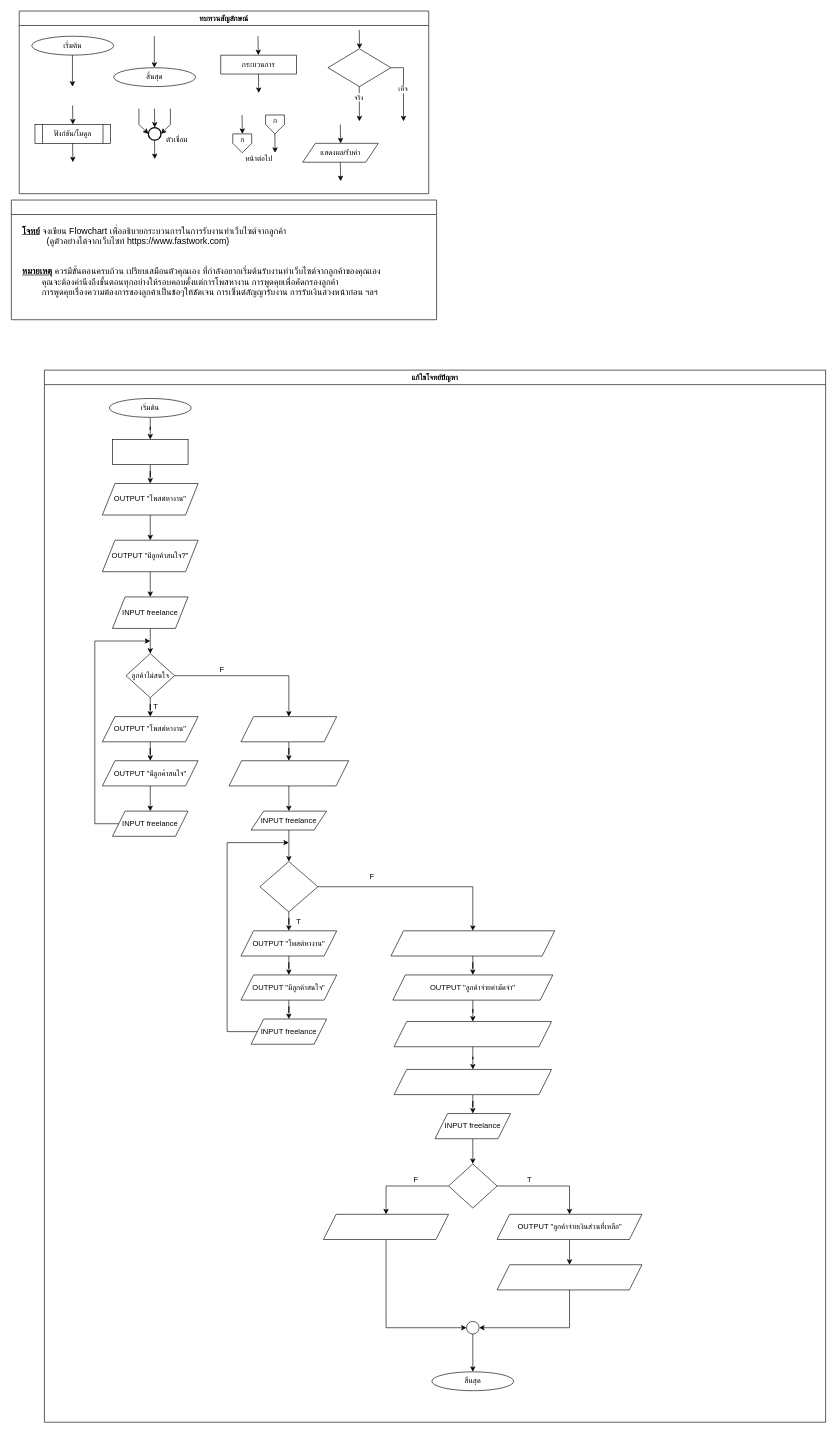
This 837x1433 diagram has some shape labels left out. The box of each missing label's shape, as (x1, y1, x2, y2) in pixels:
freelance = " ": (112, 439, 188, 465)
OUTPUT "คืนเงินมัดจำให้กับลูกค้า": (323, 1214, 449, 1240)
OUTPUT "คุยงาน": (240, 716, 337, 742)
OUTPUT "ทำงานเสร็จ?": (393, 1069, 552, 1095)
OUTPUT "ทำงานและรายงานความคืบหน้า": (393, 1021, 552, 1047)
OUTPUT "ทำสัญญาจ้างงาน": (390, 930, 555, 956)
OUTPUT "รับเงิน": (496, 1264, 642, 1290)
OUTPUT "ลูกค้าสนใจจ้างงาน?": (228, 760, 349, 786)
ทำงานเสร็จ: (448, 1163, 497, 1208)
ประโยคเงื่อนไข: (327, 48, 391, 87)
ลูกสินค้าไม่สนใจจ้างงาน: (259, 861, 318, 912)
โจทย์ปัญหา: (11, 199, 437, 320)
